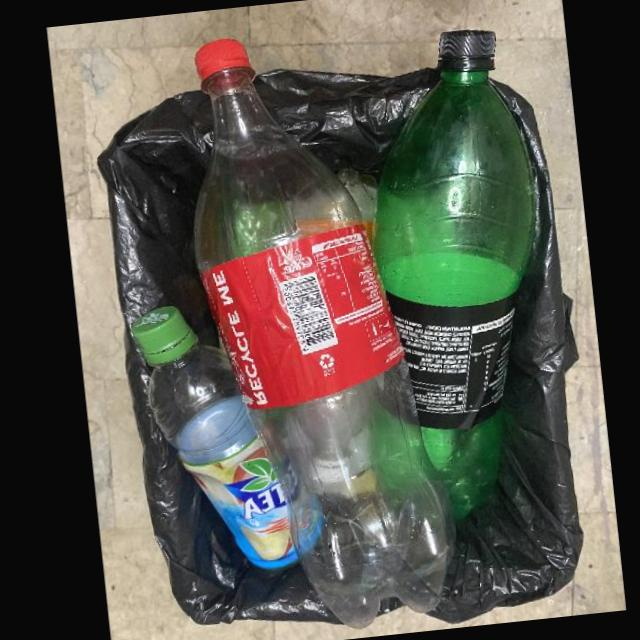chai_nhua: (373, 27, 537, 519)
chai_nhua_pet: (192, 35, 457, 625), (131, 304, 297, 568)
